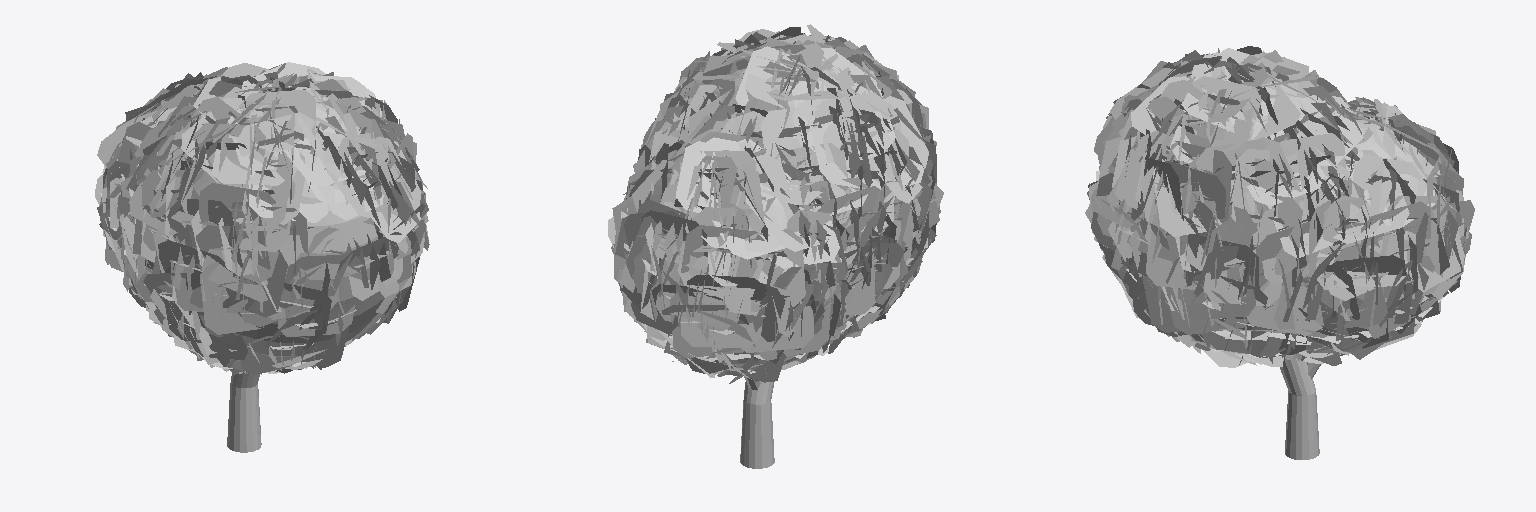
Rendered from tree2.obj.
3 renders of one model, left to right at view 1: azimuth 30°, elevation 25°; view 2: azimuth 150°, elevation 25°; view 3: azimuth 270°, elevation 25°, orthographic.
Parts seen in each view (by area): view 1: Plane.001, Circle; view 2: Plane.001, Circle; view 3: Plane.001, Circle.
Boxes of the visible parts, box(x1,y1,x2,y2) form: Plane.001: box(95, 62, 429, 374); Circle: box(227, 372, 261, 452); Plane.001: box(608, 24, 943, 383); Circle: box(740, 376, 774, 468); Plane.001: box(1085, 46, 1474, 367); Circle: box(1280, 356, 1320, 459).
Bounding box in the file's own units: 4.98 × 6.98 × 6.26.